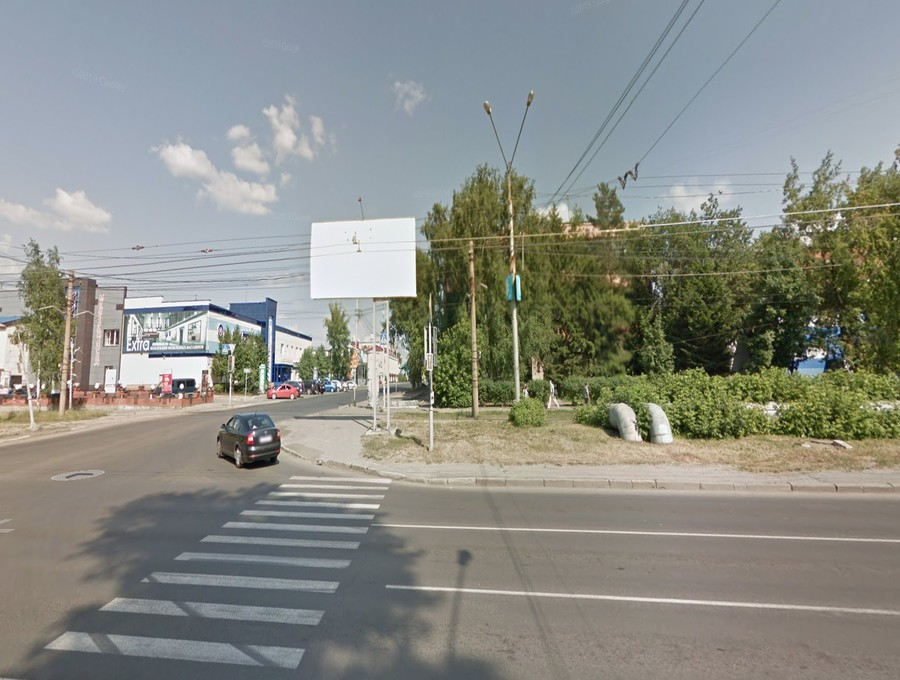Traffic Light-red: (424, 353, 435, 372)
